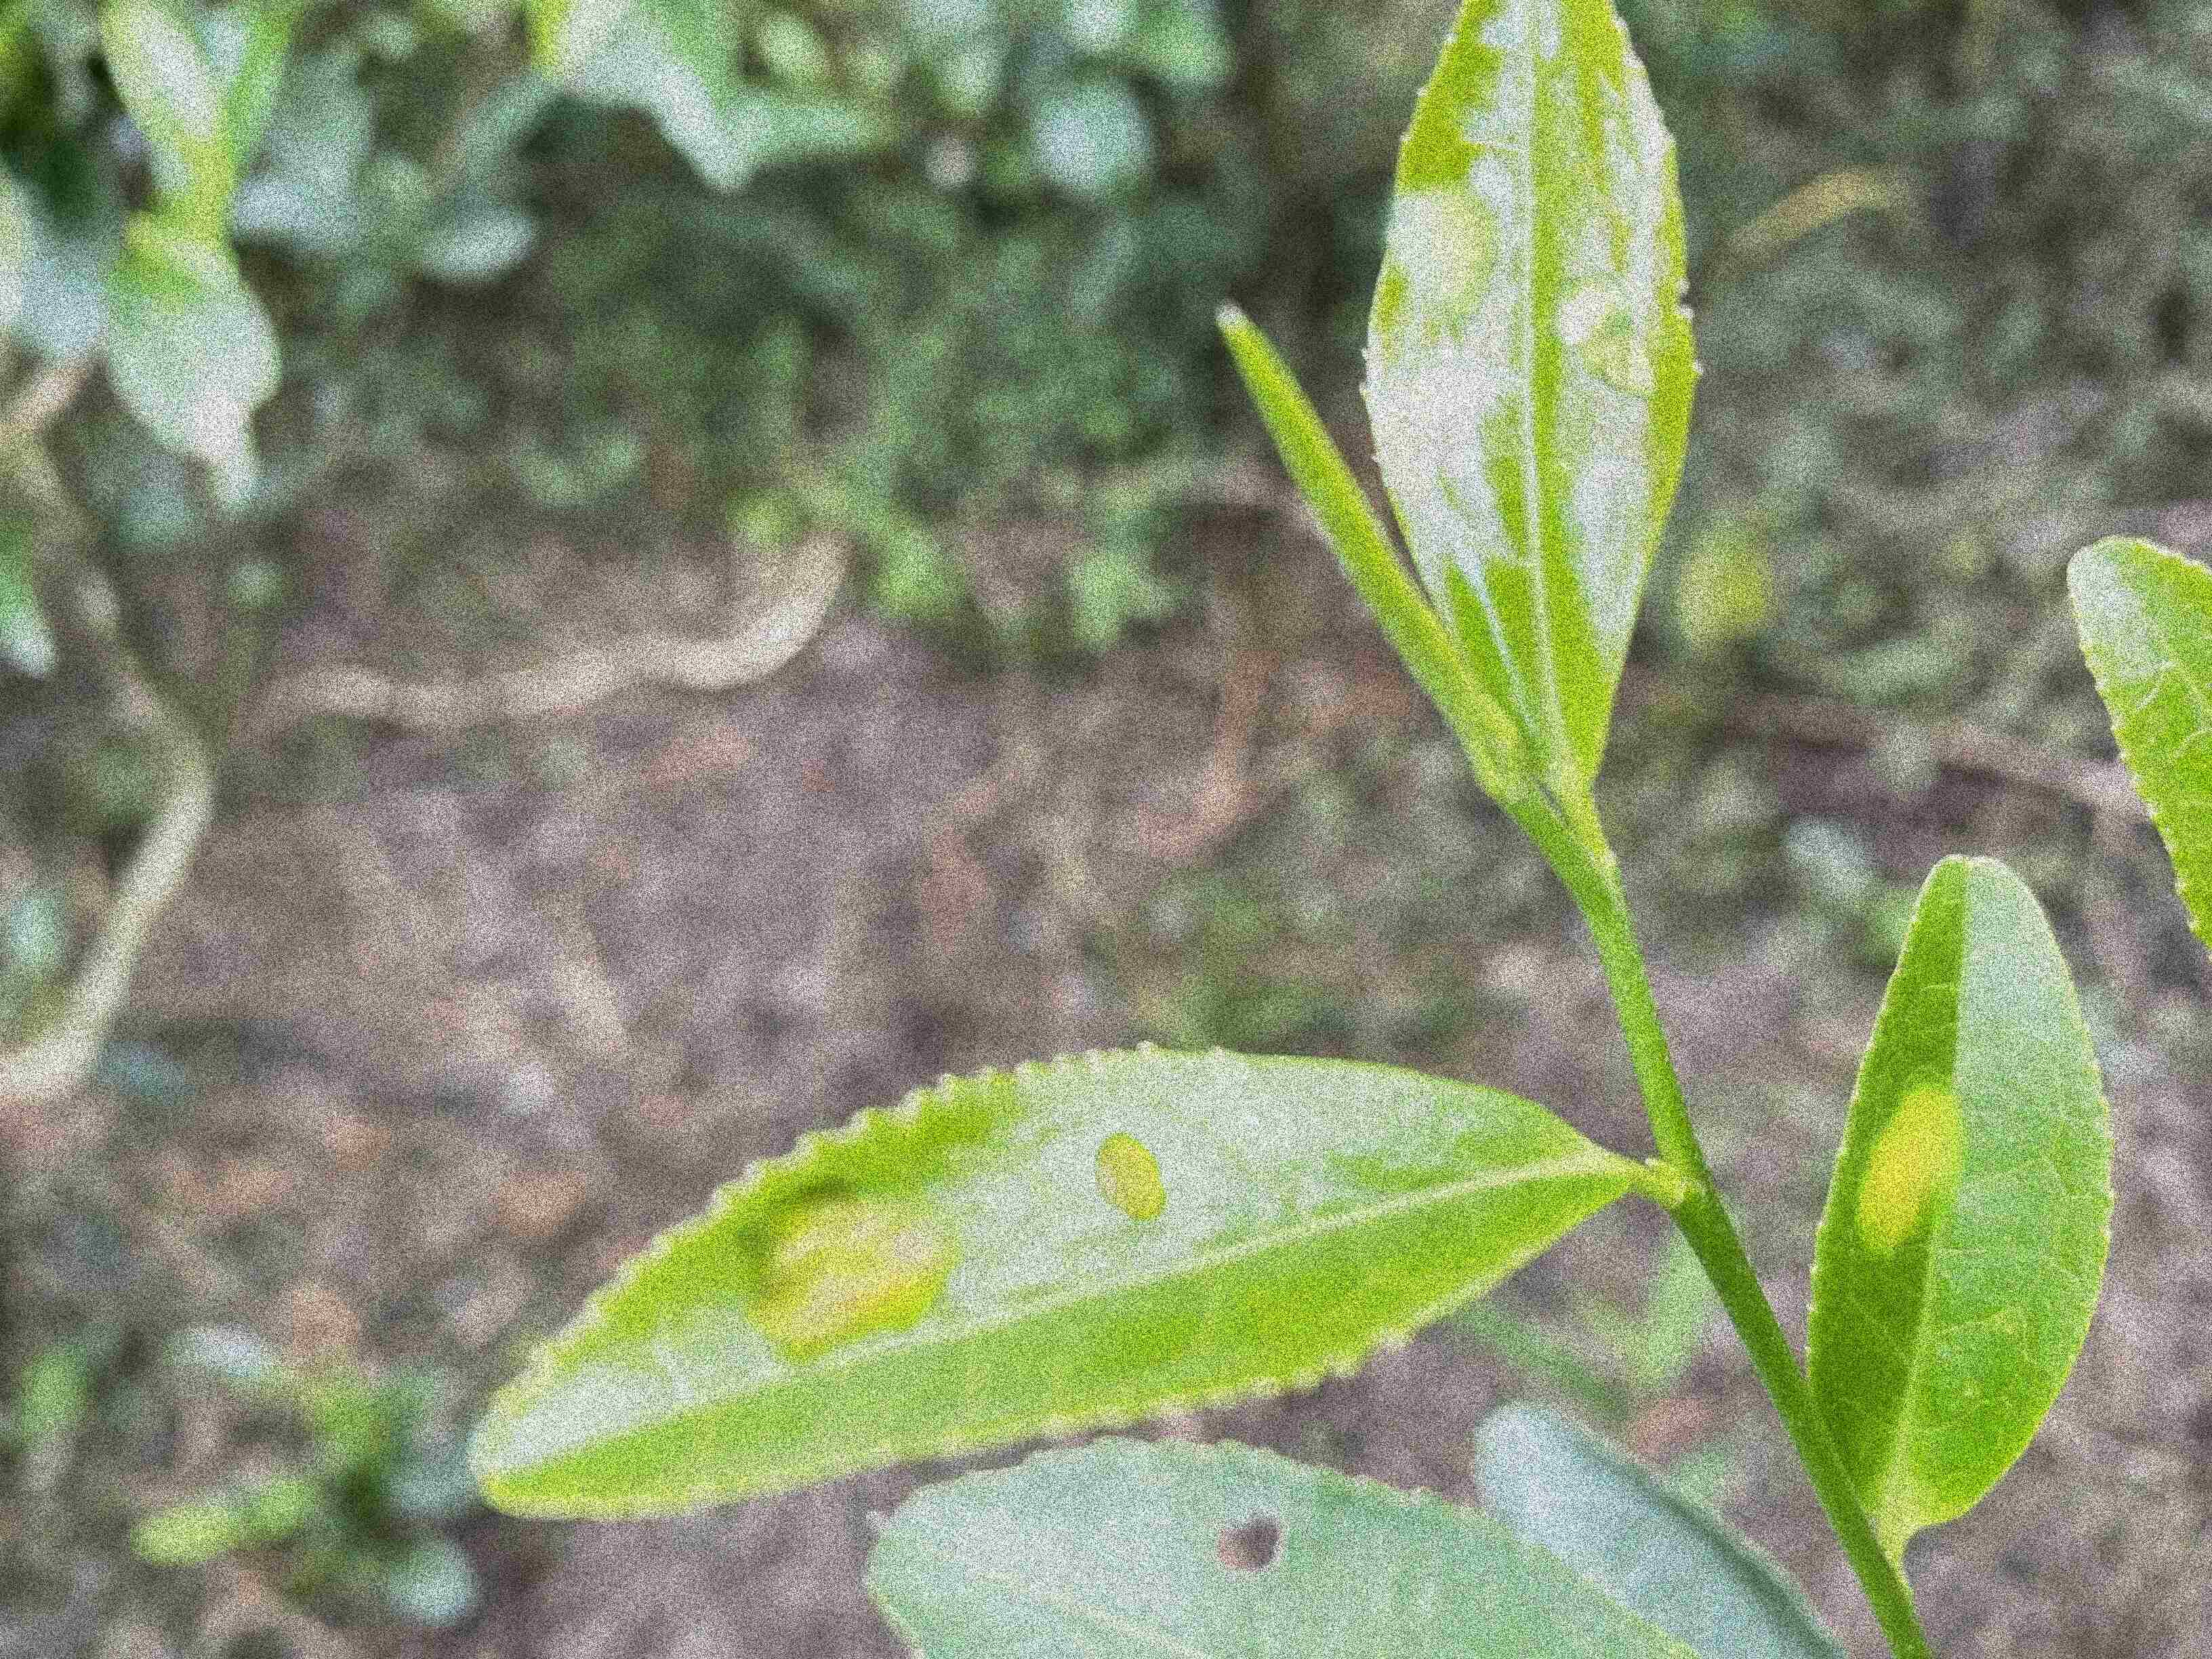chabing_high: (474, 1042, 1625, 1523), (1352, 0, 1705, 788)
chabing_low: (1803, 856, 2118, 1527)
chihuo_low: (864, 1436, 1703, 1656)
healthy: (2062, 535, 2209, 955)
